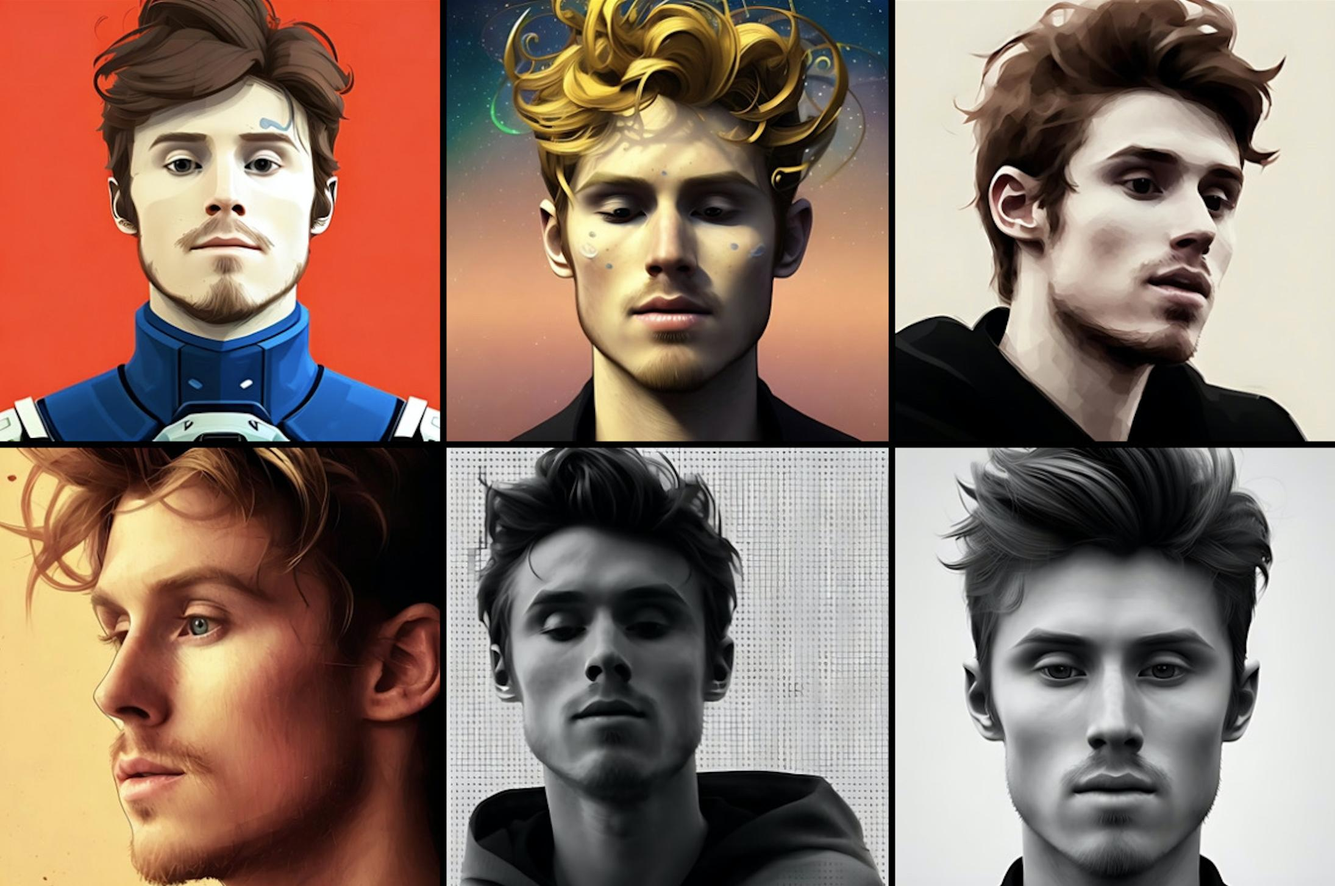NoHuman: (0, 4, 1335, 886)
